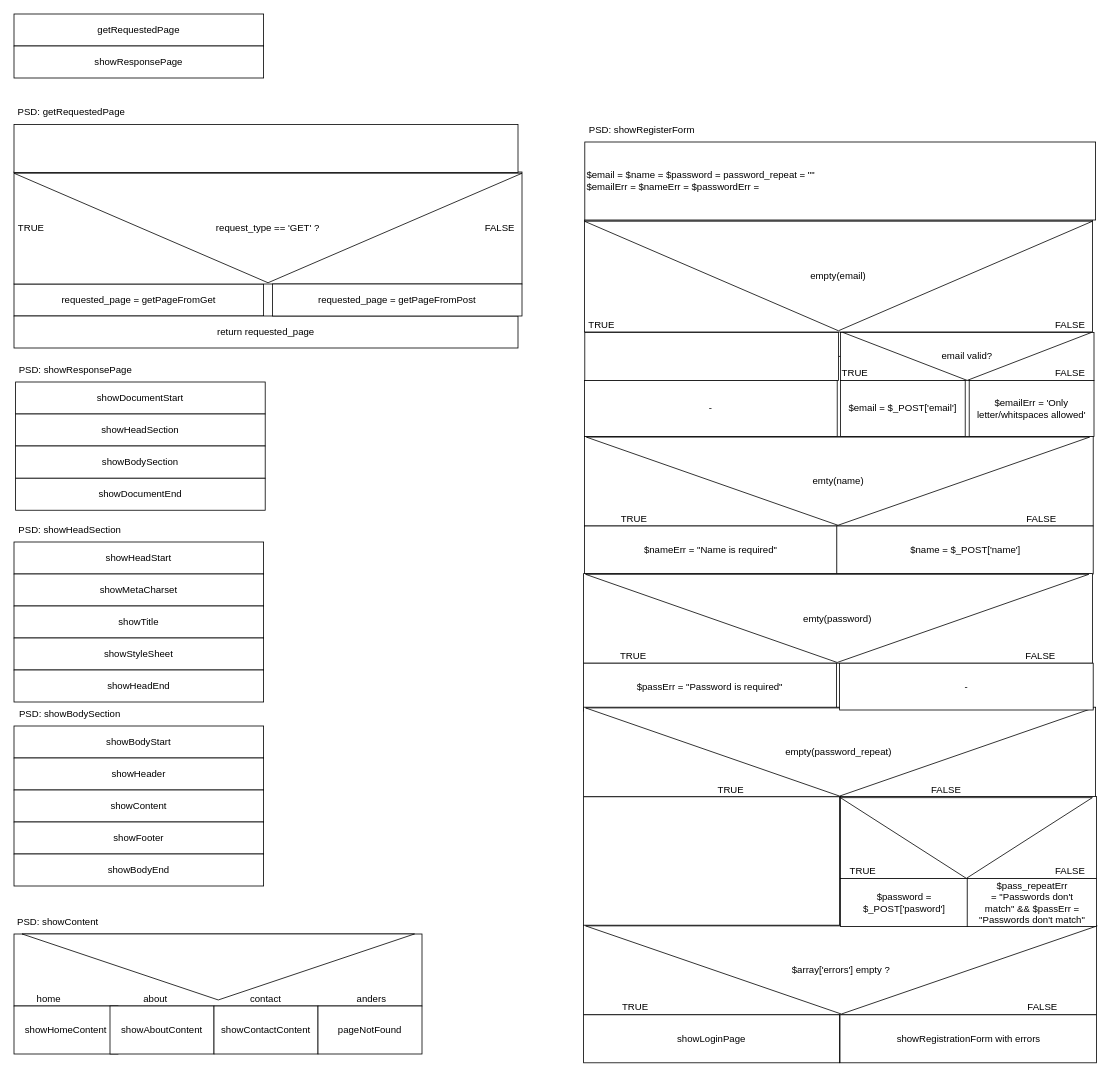
Image size: 1111x1077. Some labels were removed from this diagram. The shapes that lost their labels are listed below. From the top down, each one's centre as x and y in pixels, then its label:
(265,148): request_type = getRequestType
(711,356): $emailErr = 'Email is required'
(966,837): $password == $password_repeat
(711,861): $pass_repeatErr = "Repeat your password"
(218,966): switch(page)
